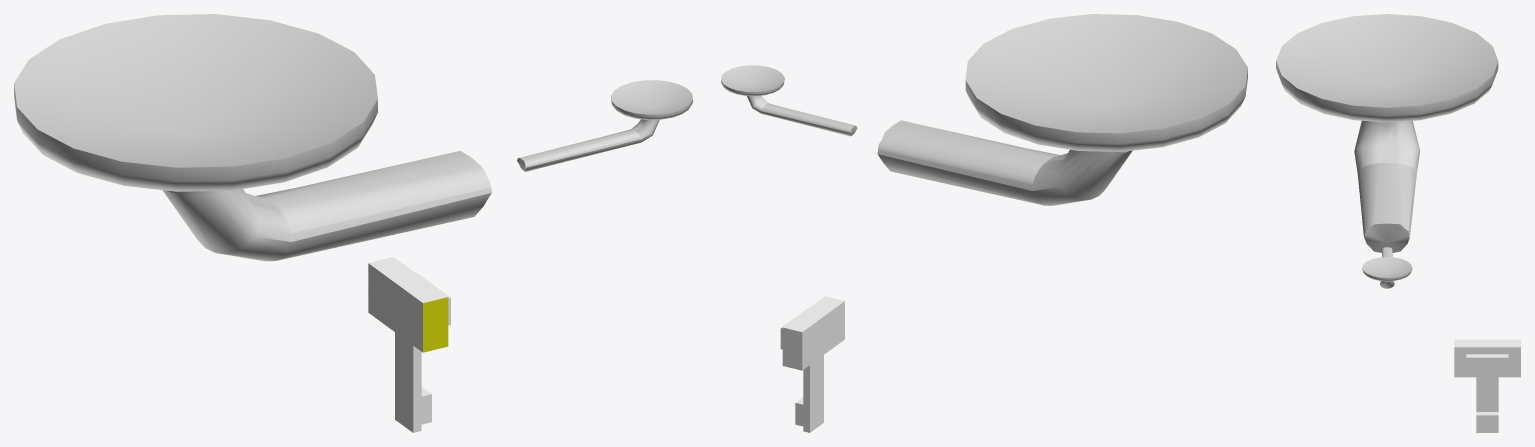
The model's file is Satellite Kit radio 3.glb.
3 renders of one model, left to right at view 1: azimuth 30°, elevation 25°; view 2: azimuth 150°, elevation 25°; view 3: azimuth 270°, elevation 25°, orthographic. The views are drawn at different scales.
Parts seen in each view (by area): view 1: SatRadioDish2, pCube1, SatRadioDish1; view 2: SatRadioDish2, pCube1, SatRadioDish1; view 3: SatRadioDish2, pCube1, SatRadioDish1.
Boxes of the visible parts, bbox=[...] form: SatRadioDish2: bbox=[14, 14, 491, 261]; pCube1: bbox=[368, 257, 450, 432]; SatRadioDish1: bbox=[517, 80, 692, 171]; SatRadioDish2: bbox=[877, 14, 1247, 205]; pCube1: bbox=[780, 296, 844, 432]; SatRadioDish1: bbox=[721, 65, 857, 136]; SatRadioDish2: bbox=[1276, 14, 1498, 252]; pCube1: bbox=[1454, 339, 1520, 432]; SatRadioDish1: bbox=[1362, 247, 1412, 288].
Size of the model in its own units: 0.0847 by 0.0581 by 0.0455.
